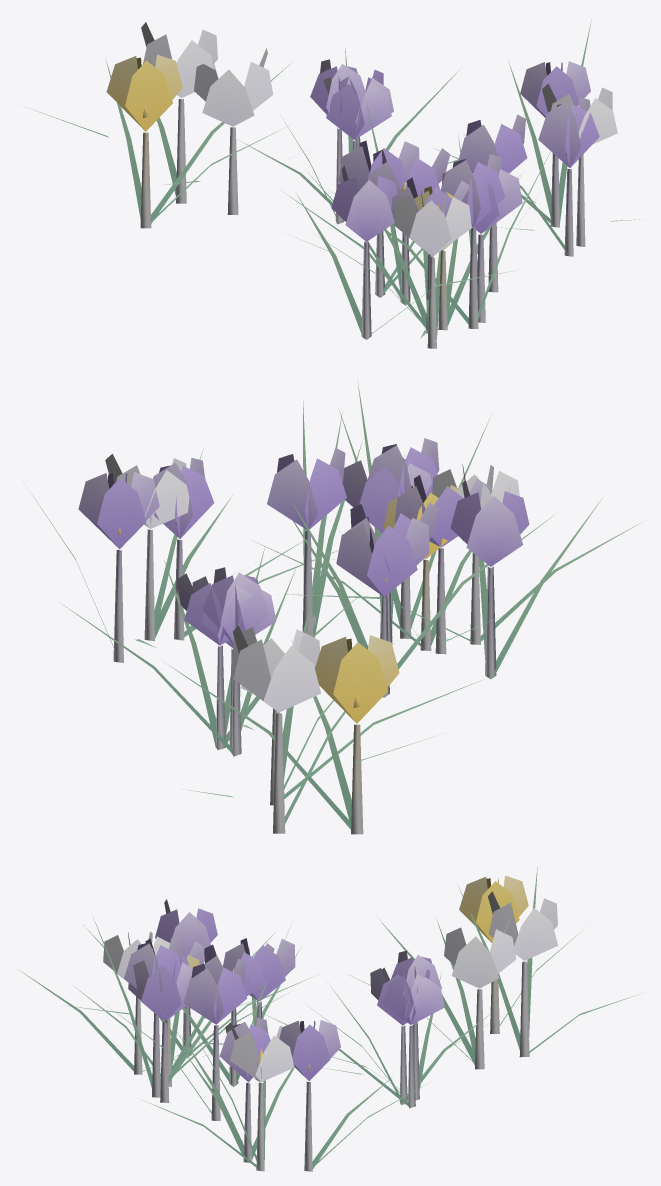
Rendered from crocus_patch_a.glb.
3 views of the same model, one above another, from view 1: azimuth 30°, elevation 25°; view 2: azimuth 150°, elevation 25°; view 3: azimuth 270°, elevation 25° (orthographic). The views are drawn at different scales.
Visible parts, largest first — view 1: soft; view 2: soft; view 3: soft.
Boxes of the visible parts, <box> form: soft: <box>25,19,640,348</box>; soft: <box>30,379,645,834</box>; soft: <box>19,867,639,1171</box>.
Bounding box in the file's own units: 0.5768 × 0.2152 × 0.7201.
